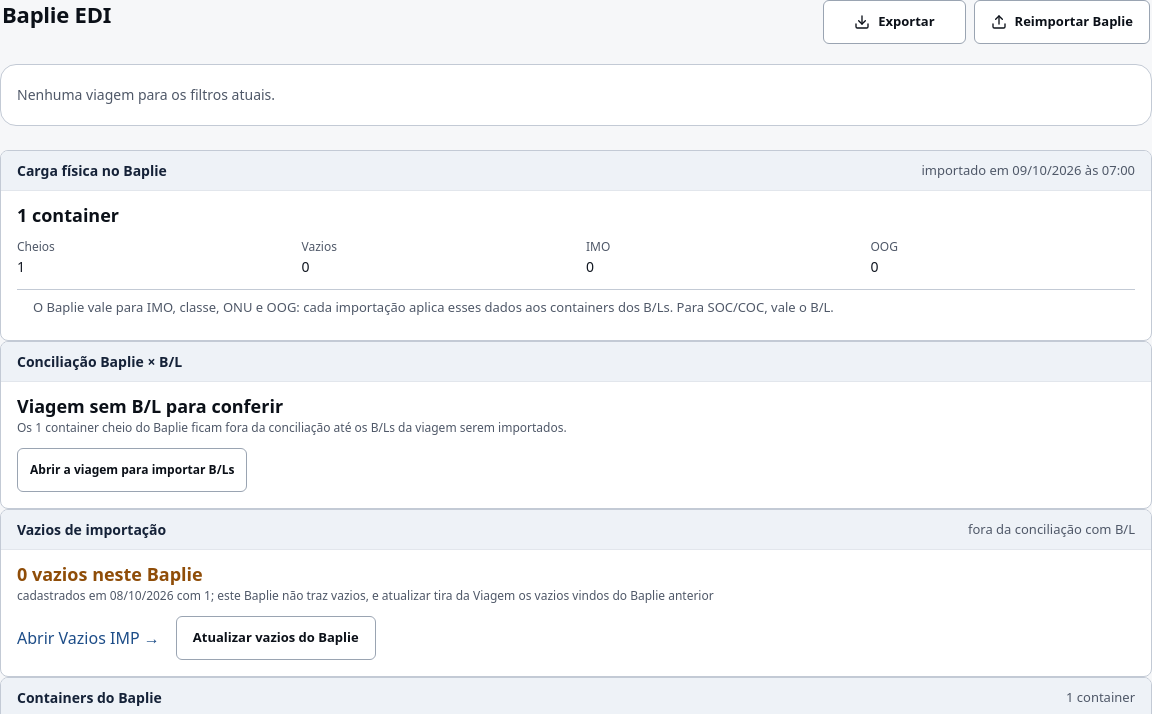
Test case: Baplie sem vazios e vazios do Baplie anterior cadastrados: atualizar os remove
Expected: the text "este Baplie não traz vazios, e atualizar tira da Viagem" is shown, [17,587,714,604]
Click the button "Atualizar vazios do Baplie": (276, 638) [176,616,376,660]
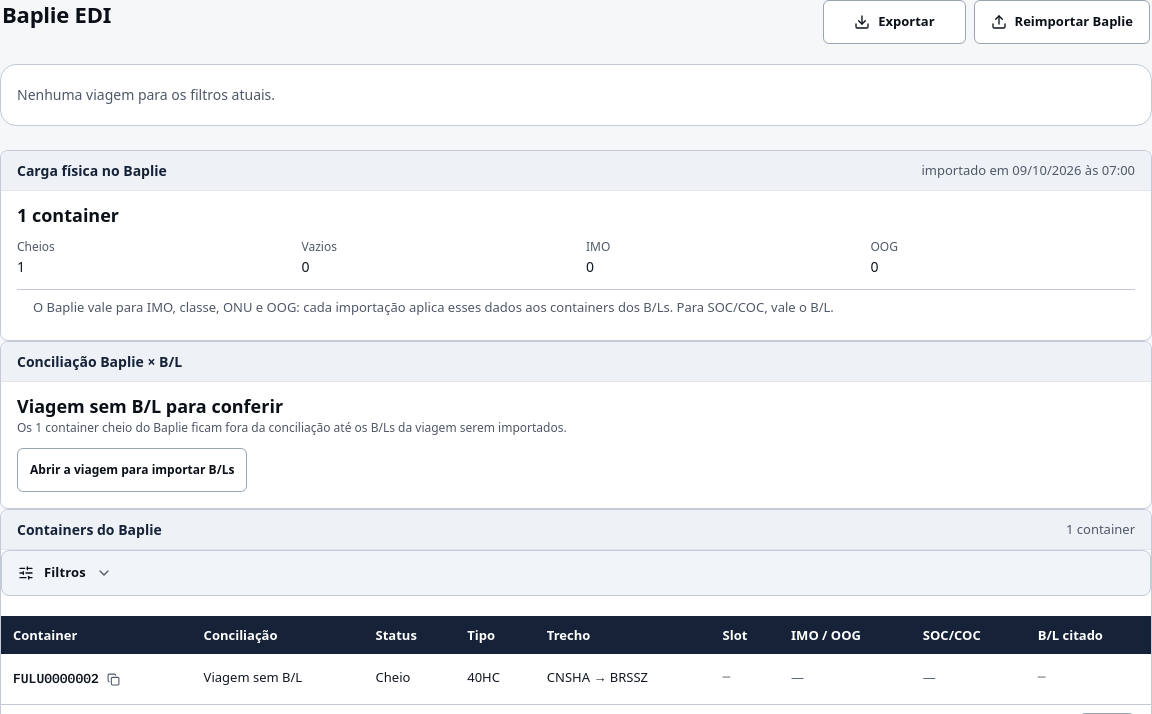
Expected: the heading "Vazios de importação" is gone
